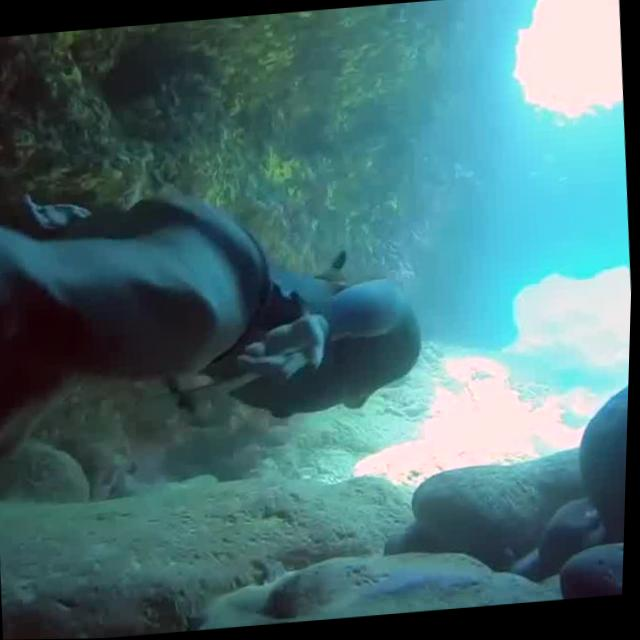human: (0, 131, 467, 610)
